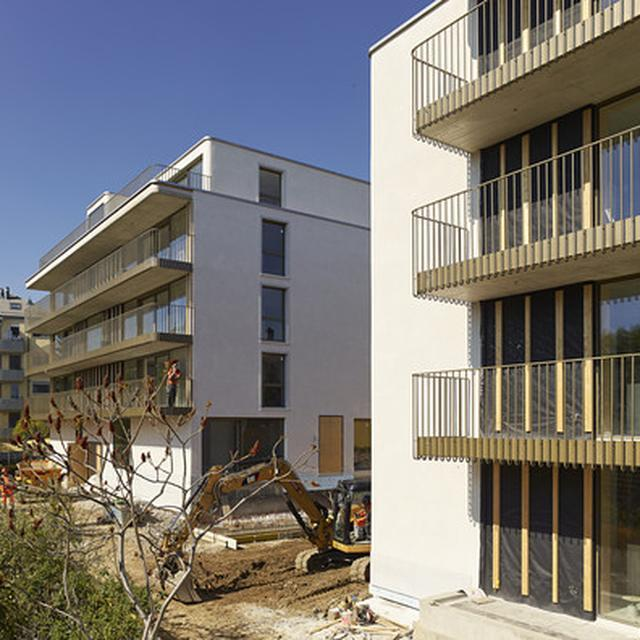building: (370, 0, 640, 640), (28, 134, 372, 585)
